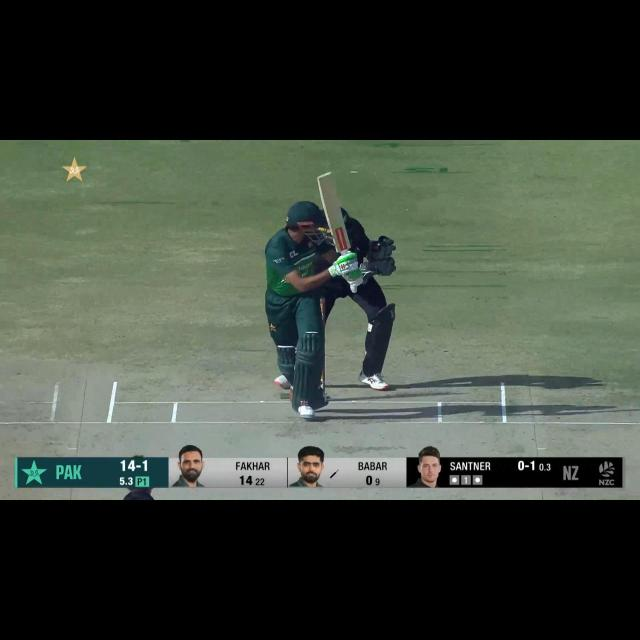bat: (314, 170, 351, 254)
toe: (316, 170, 337, 190)
